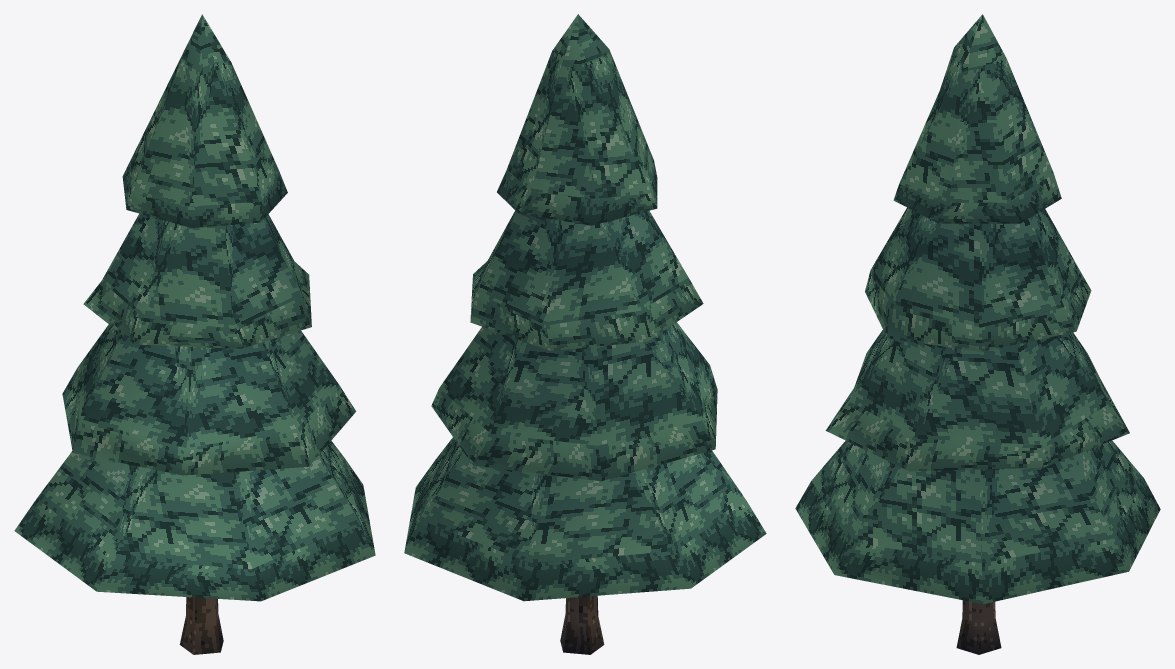
File: mnat.pine.glb
3 renders of one model, left to right at view 1: azimuth 30°, elevation 25°; view 2: azimuth 150°, elevation 25°; view 3: azimuth 270°, elevation 25°, orthographic.
Visible parts, largest first — view 1: kit_tiers, kit_trunk; view 2: kit_tiers, kit_trunk; view 3: kit_tiers, kit_trunk.
Boxes of the visible parts, <box> form: kit_tiers: <box>14,14,375,601</box>; kit_trunk: <box>179,597,223,654</box>; kit_tiers: <box>404,14,766,601</box>; kit_trunk: <box>560,595,604,654</box>; kit_tiers: <box>795,14,1160,604</box>; kit_trunk: <box>956,600,1001,654</box>.
Size of the model in its own units: 4.52 by 8.74 by 4.59.
Materials: 2 (2 with a texture image).
